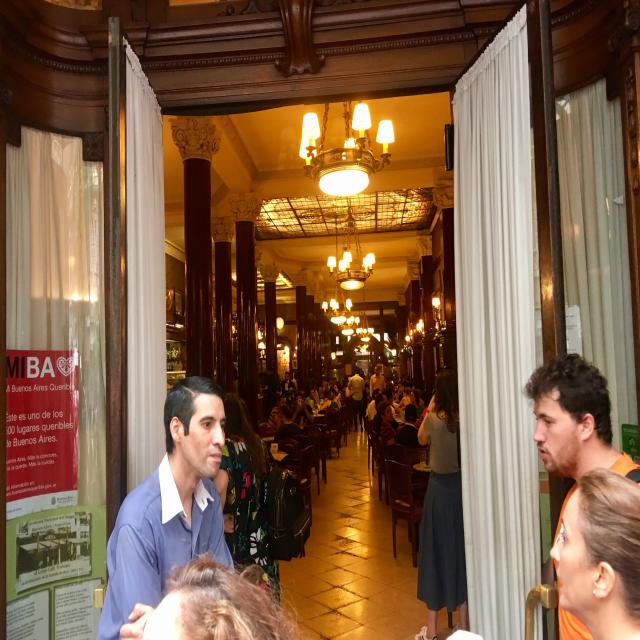body: (95, 373, 238, 640), (524, 351, 640, 640), (547, 462, 640, 640), (211, 391, 285, 606), (414, 365, 468, 640), (137, 555, 298, 640), (18, 525, 92, 576), (394, 402, 429, 450), (347, 364, 368, 434), (372, 393, 401, 435), (273, 405, 302, 443), (376, 399, 397, 445), (290, 392, 316, 429), (264, 363, 280, 418), (318, 373, 354, 397), (382, 374, 426, 392), (358, 370, 370, 431), (268, 393, 288, 428), (369, 365, 386, 401), (380, 386, 397, 422), (277, 371, 295, 399), (320, 390, 340, 412), (409, 391, 424, 419), (419, 390, 432, 420), (305, 389, 320, 410), (306, 372, 318, 398), (329, 388, 342, 407), (291, 370, 302, 390), (388, 365, 398, 386)
